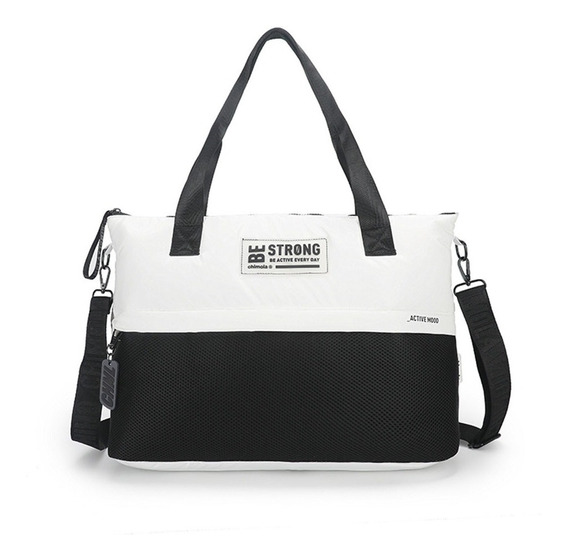cartera: (68, 26, 513, 476)
